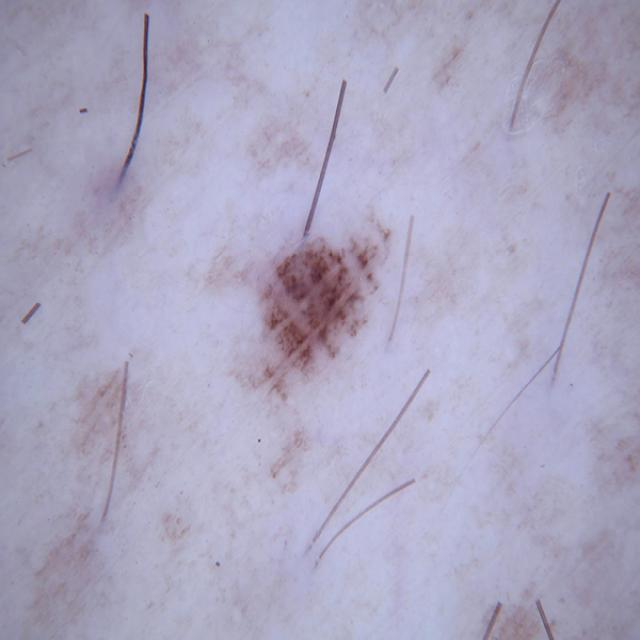Skin-Cancer Pigmented benign keratosis: (95, 119, 530, 516)
